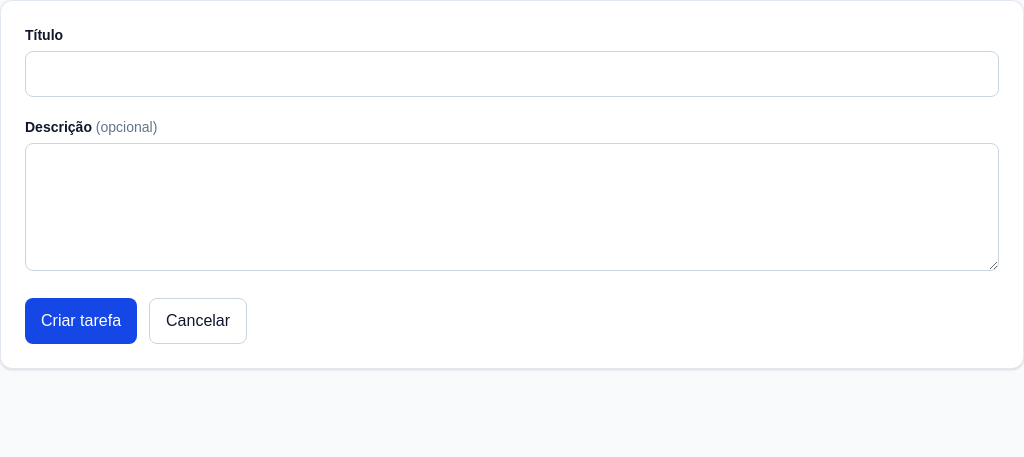
Test: TaskForm › creates a task and shows success feedback
Type "Planejar semana" into the field labelled "Título".
click(512, 74); type("Planejar semana")  # box [25,51,999,97]
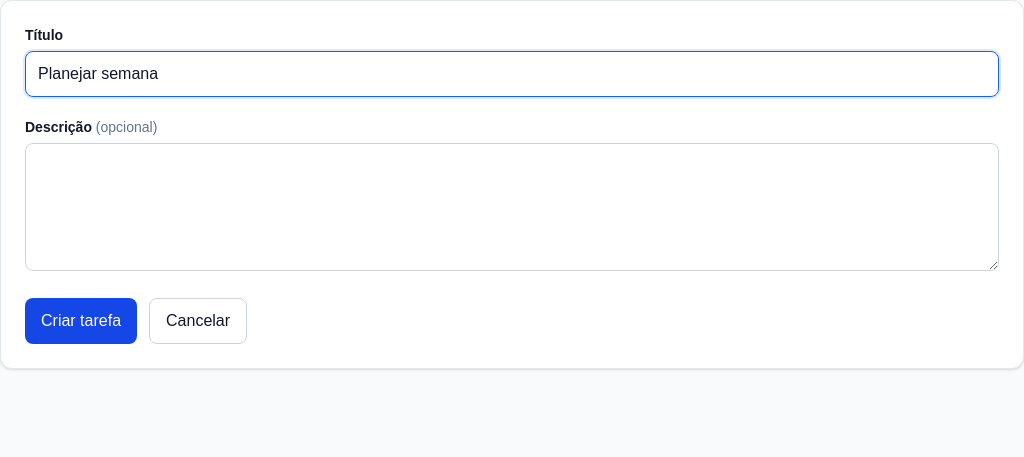
Type "Organizar prioridades" into the text box labelled "Descrição (opcional)".
click(512, 207); type("Organizar prioridades")  # box [25,143,999,271]
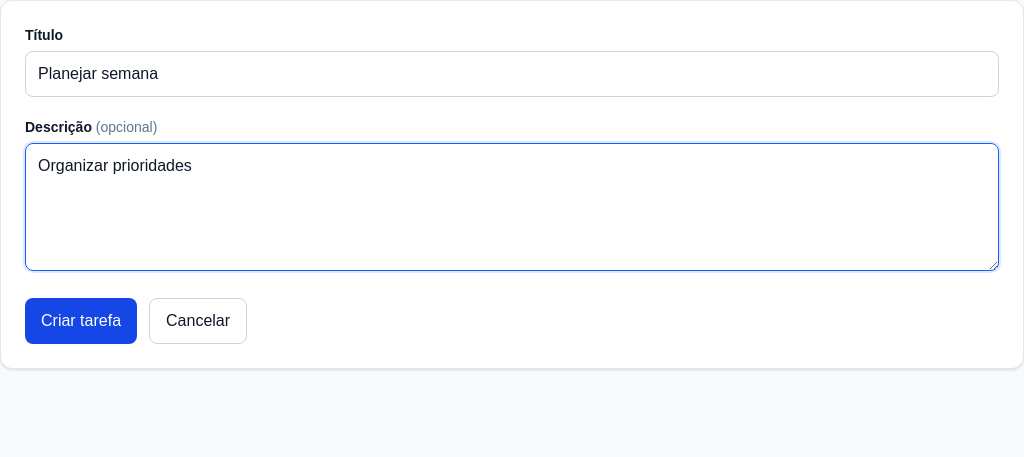
Click the button "Criar tarefa".
click(81, 321)  # box [25,298,137,344]
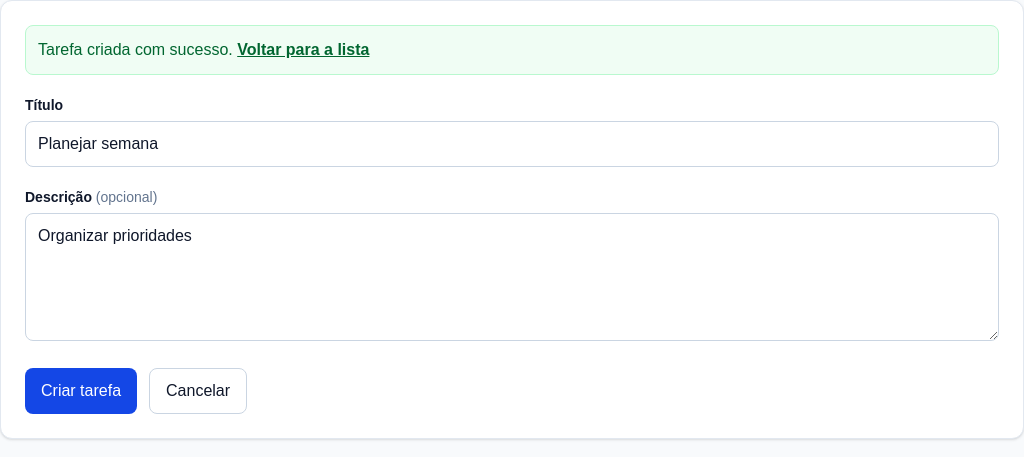
Expected: the message shows "Tarefa criada", [38,41,233,58]
